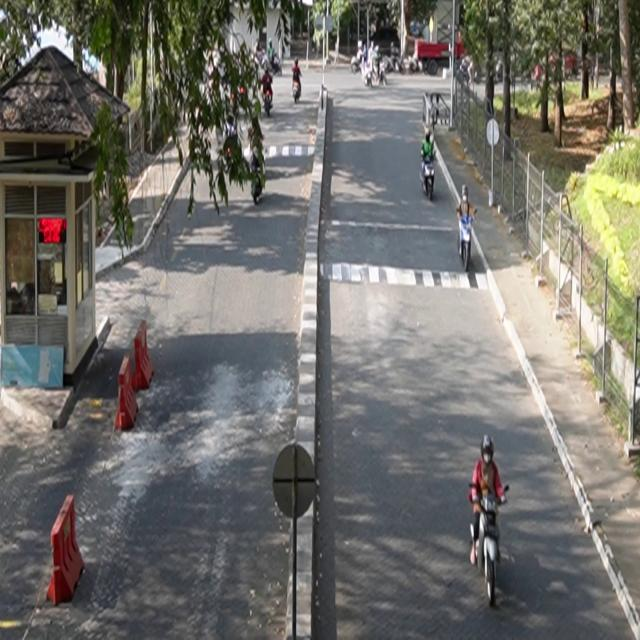truck: (415, 27, 468, 77)
